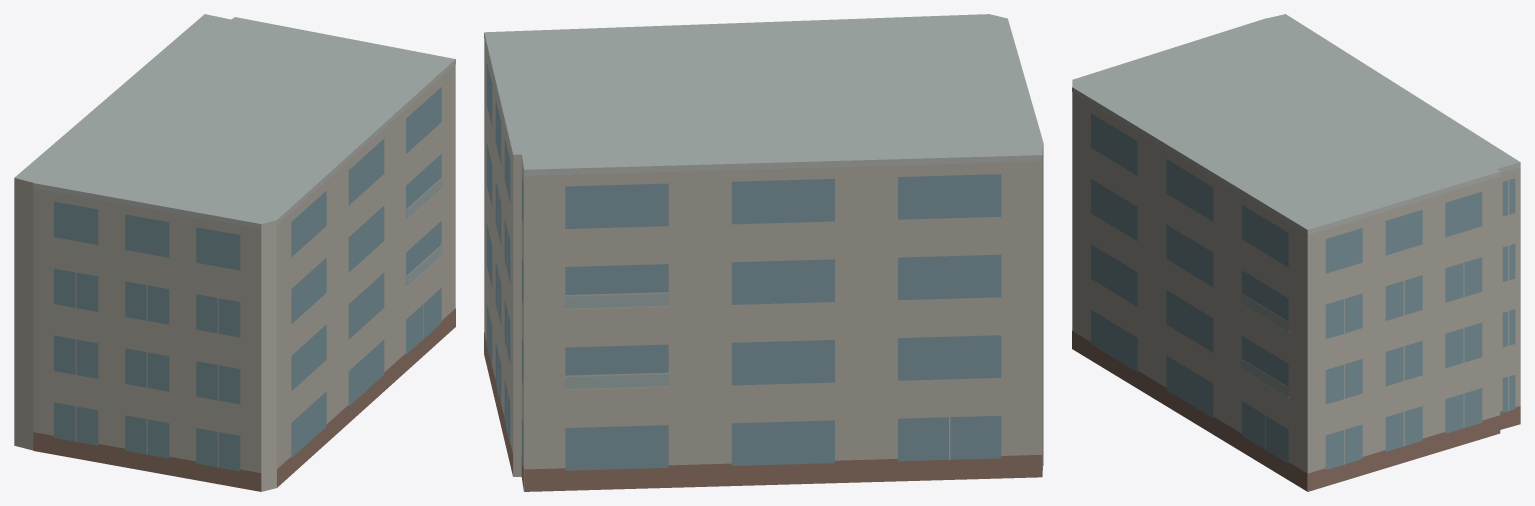
File: survey-upis-32815109.glb
The picture shows the model from 3 angles, left to right: view 1: azimuth 30°, elevation 25°; view 2: azimuth 150°, elevation 25°; view 3: azimuth 270°, elevation 25°; orthographic projection. The views are drawn at different scales.
Parts seen in each view (by area): view 1: survey-upis-32815109.tmp; view 2: survey-upis-32815109.tmp; view 3: survey-upis-32815109.tmp.
Boxes of the visible parts, x1,y1,x2,y2 form: survey-upis-32815109.tmp: (14, 14, 455, 491); survey-upis-32815109.tmp: (484, 14, 1043, 491); survey-upis-32815109.tmp: (1072, 14, 1520, 491).
Bounding box in the file's own units: 22.66 × 12.8 × 19.88.
